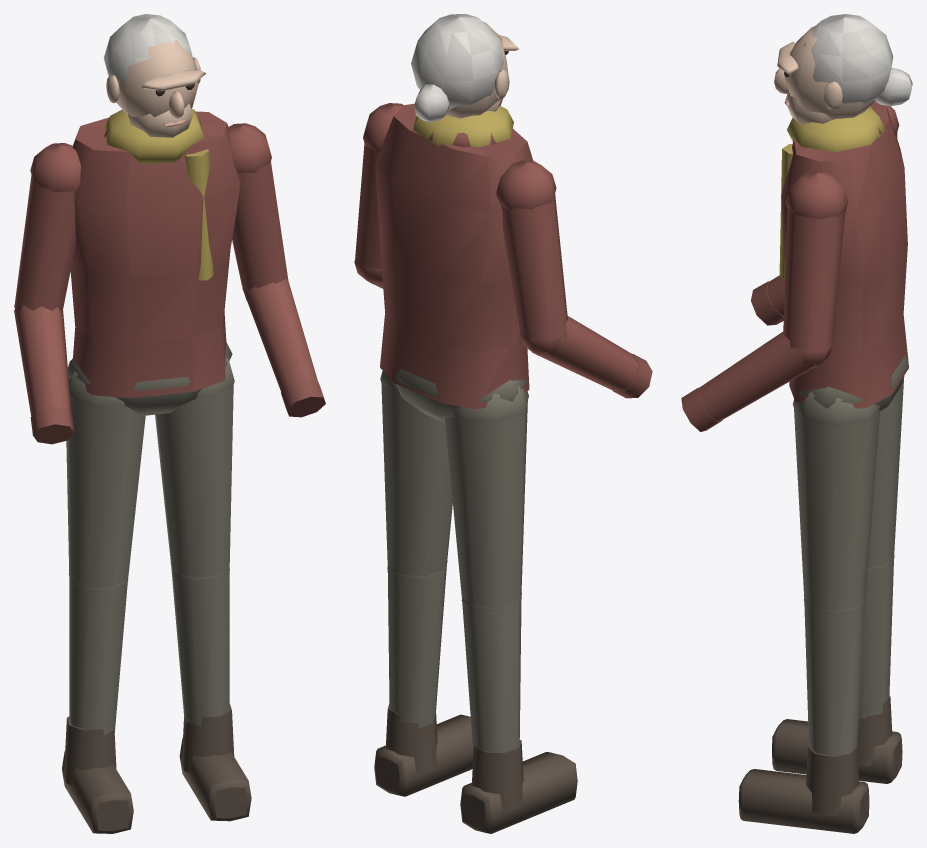
The model's file is crowd_stand_a_b.glb.
3 renders of one model, left to right at view 1: azimuth 30°, elevation 25°; view 2: azimuth 150°, elevation 25°; view 3: azimuth 270°, elevation 25°, orthographic.
Parts seen in each view (by area): view 1: body; view 2: body; view 3: body.
Boxes of the visible parts, box(x1,y1,x2,y2) form: body: box(14, 14, 325, 833); body: box(354, 14, 652, 833); body: box(681, 14, 912, 833).
Bounding box in the file's own units: 0.6114 × 1.67 × 0.4473.
